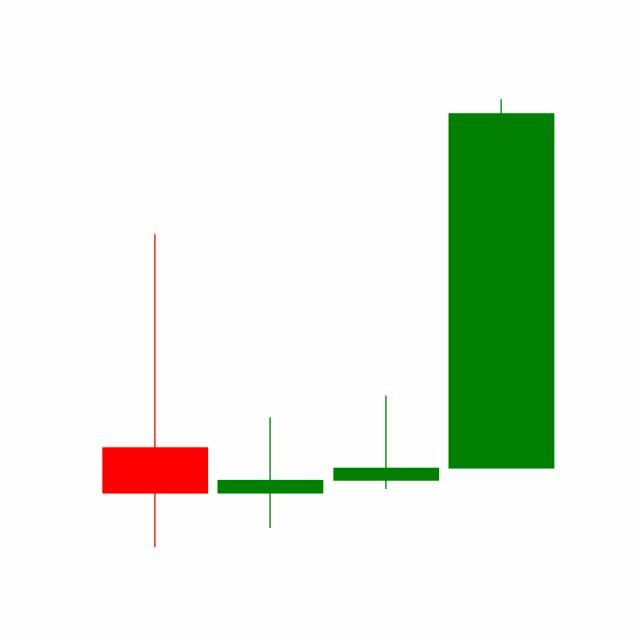Gravestone Doji: (329, 394, 445, 491)
